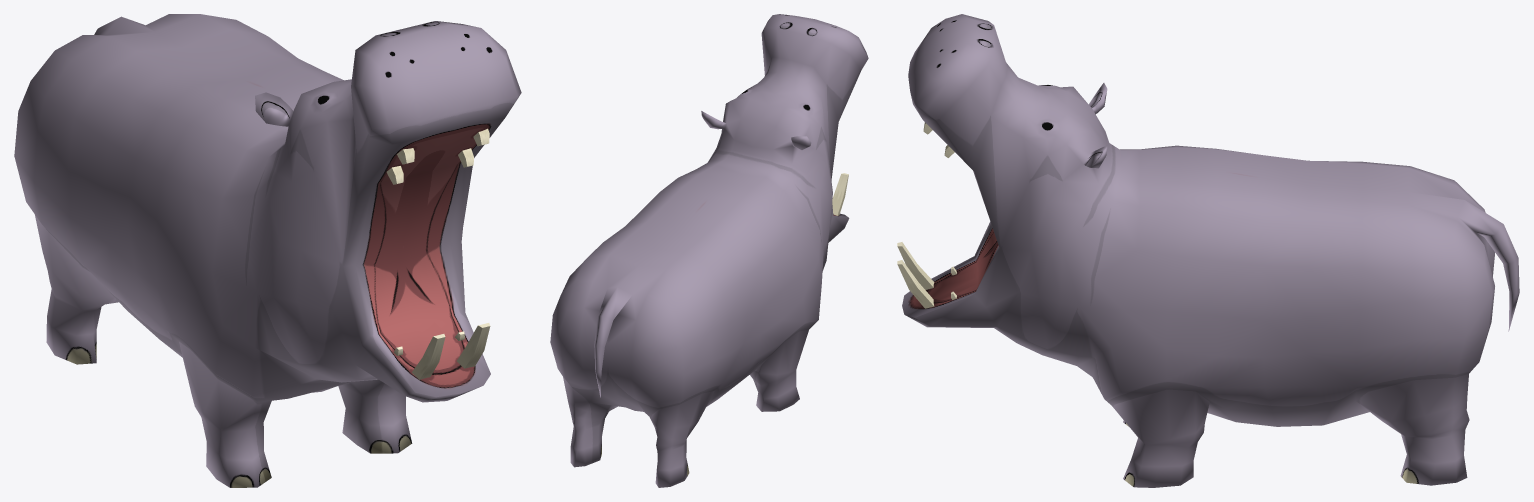
Rendered from Hippo_Open.FBX.
3 views of the same model, side by side, from view 1: azimuth 30°, elevation 25°; view 2: azimuth 150°, elevation 25°; view 3: azimuth 270°, elevation 25° (orthographic). The views are drawn at different scales.
Visible parts, largest first — view 1: default; view 2: default; view 3: default.
Boxes of the visible parts, bbox=[...] form: default: bbox=[14, 14, 521, 487]; default: bbox=[550, 14, 868, 487]; default: bbox=[897, 14, 1519, 487].
Bounding box in the file's own units: 12.1 × 24.45 × 32.81.
